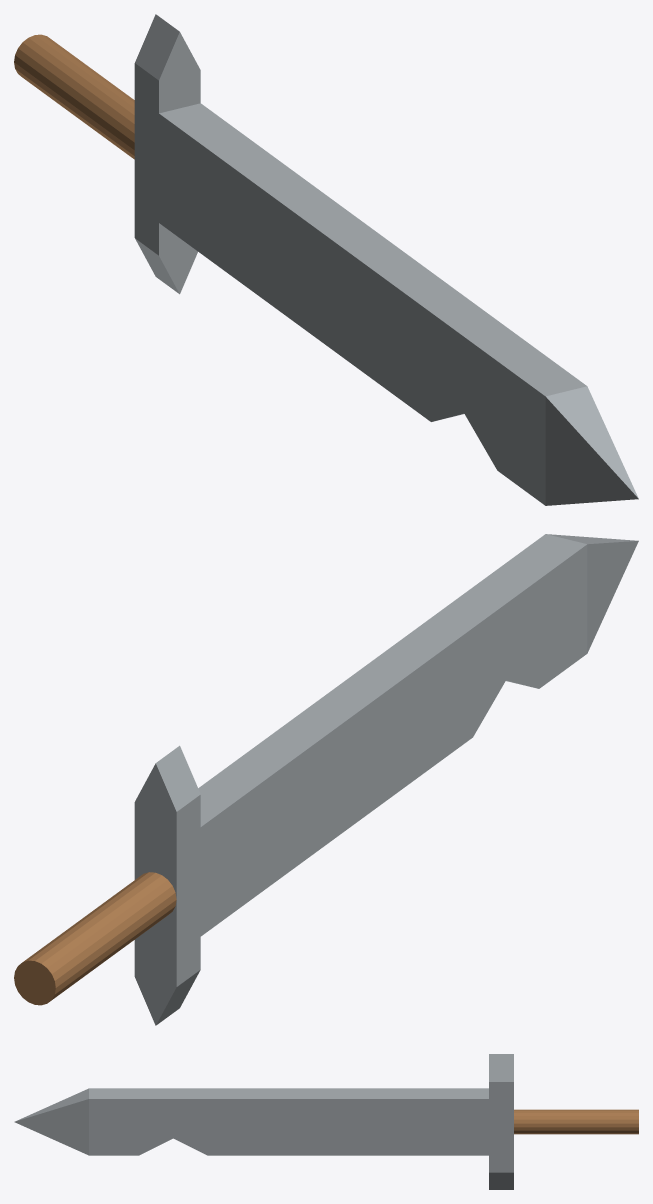
The model's file is sword.obj.
The picture shows the model from 3 angles, top to bottom: view 1: azimuth 30°, elevation 25°; view 2: azimuth 150°, elevation 25°; view 3: azimuth 270°, elevation 25°; orthographic projection. The views are drawn at different scales.
Parts seen in each view (by area): view 1: group_0_10988977, group_0_11107152; view 2: group_0_10988977, group_0_11107152; view 3: group_0_10988977, group_0_11107152.
Boxes of the visible parts, x1,y1,x2,y2 form: group_0_10988977: (134, 14, 638, 505); group_0_11107152: (14, 34, 134, 159); group_0_10988977: (134, 534, 638, 1025); group_0_11107152: (14, 872, 176, 1005); group_0_10988977: (14, 1054, 513, 1189); group_0_11107152: (514, 1109, 638, 1134).
Bounding box in the file's own units: 1 × 6 × 25.
